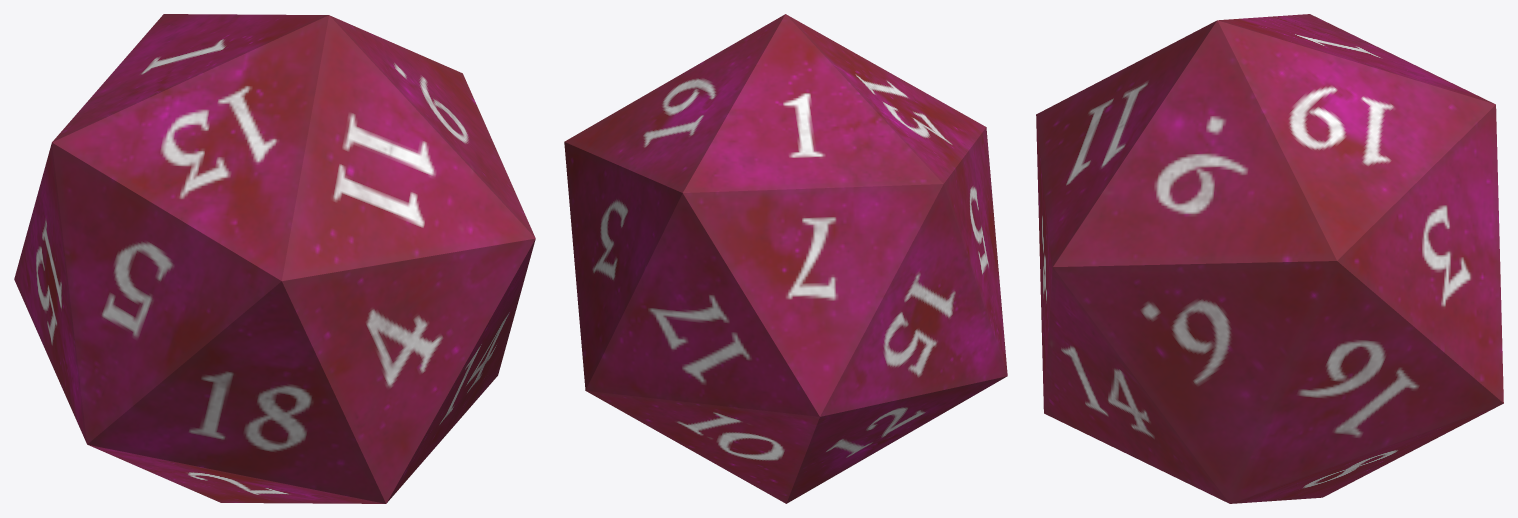
3 views of the same model, side by side, from view 1: azimuth 30°, elevation 25°; view 2: azimuth 150°, elevation 25°; view 3: azimuth 270°, elevation 25° (orthographic). The views are drawn at different scales.
Parts seen in each view (by area): view 1: d20; view 2: d20; view 3: d20.
Boxes of the visible parts, x1,y1,x2,y2 form: d20: (14, 14, 535, 503); d20: (564, 14, 1007, 503); d20: (1036, 14, 1503, 503).
Size of the model in its own units: 0.9692 by 1.07 by 0.9018.
1 material, 1 textured.
